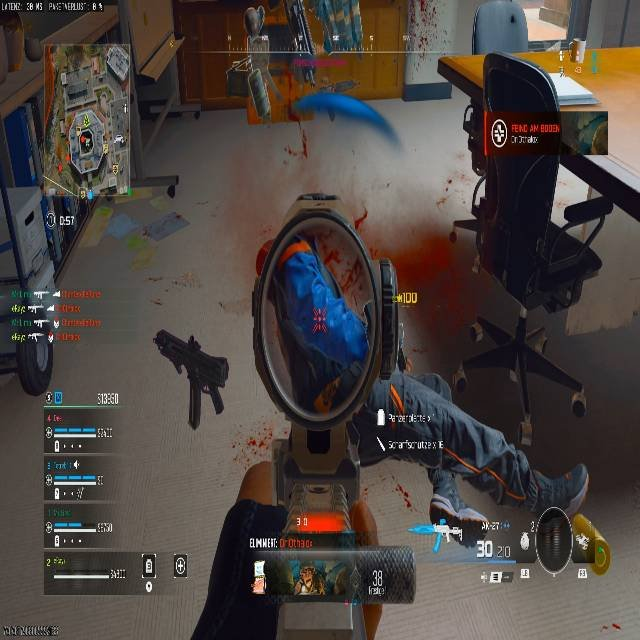player: (163, 101, 627, 622), (156, 332, 229, 426)
